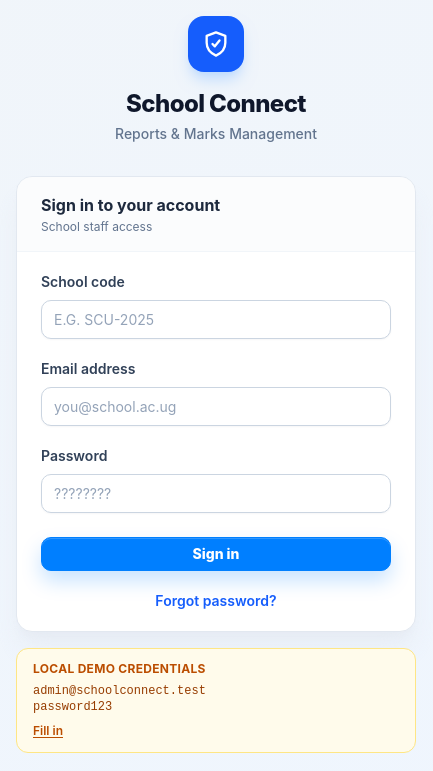
Test: LoginPage › shows a safe service message for fetch/network failures
The image size is (433, 771).
Type "SCU-PREVIEW" into the field labelled "School code". click: (216, 320)
box: x1=41 y1=300 x2=391 y2=339
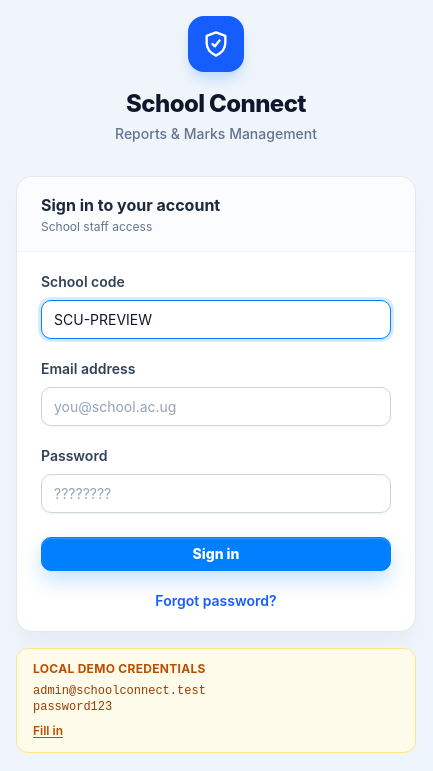
Type "admin@test.com" into the field labelled "Email address". click: (216, 406)
box: x1=41 y1=387 x2=391 y2=426
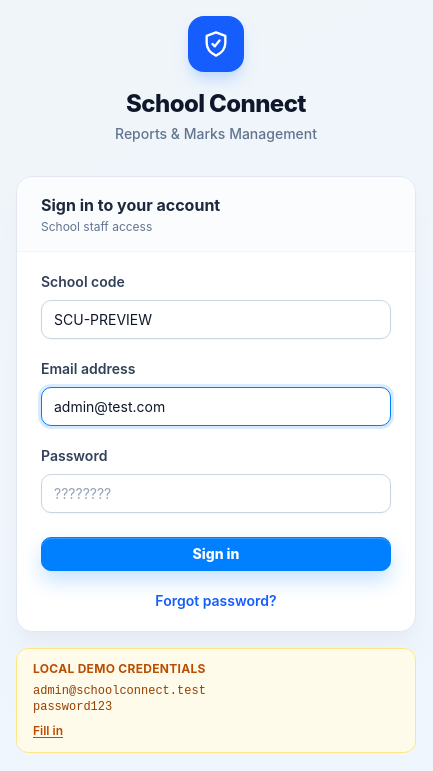
Type "password123" into the password field labelled "Password". click: (216, 494)
box: x1=41 y1=474 x2=391 y2=513
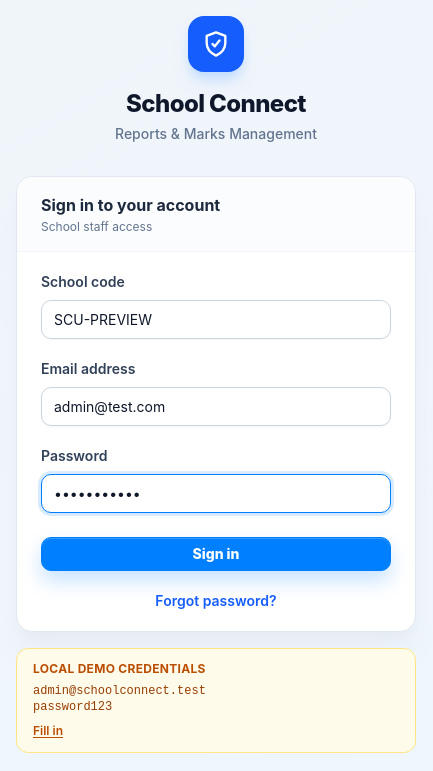
Click the button "Sign in". click: click(216, 554)
box: x1=41 y1=537 x2=391 y2=571
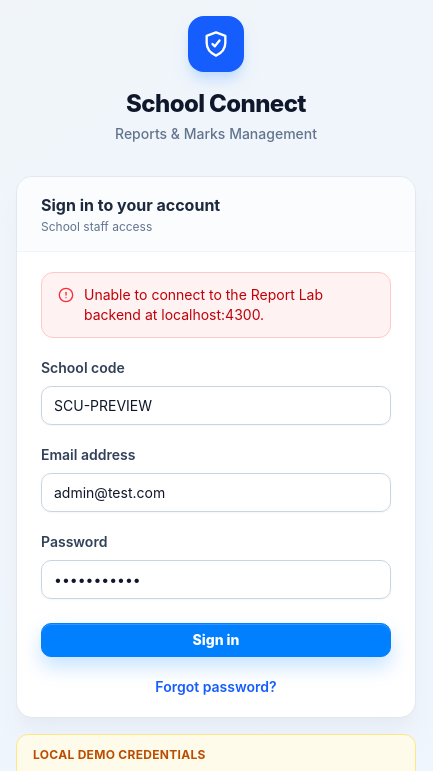
Expected: the text "Unable to connect to the Report Lab backend" is shown, x1=84 y1=286 x2=323 y2=323
